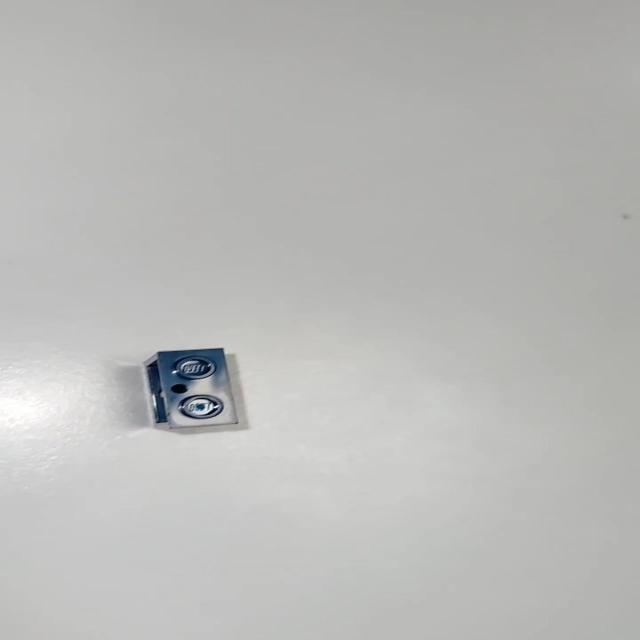W2x1x2: (149, 348, 245, 428)
